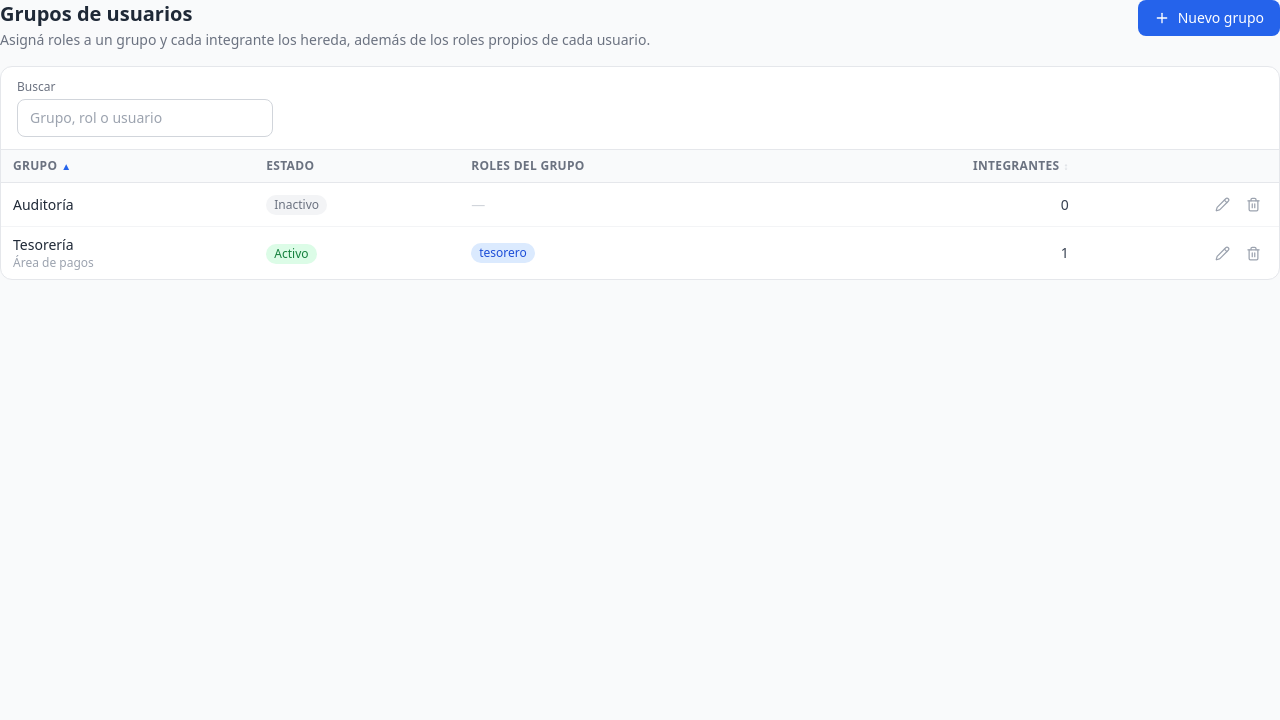
Test: GroupsPage › muestra el error del servidor dentro del modal
This screenshot has width=1280, height=720.
Click the button "Nuevo grupo" at coordinates (1209, 18), box [1138, 0, 1279, 36]
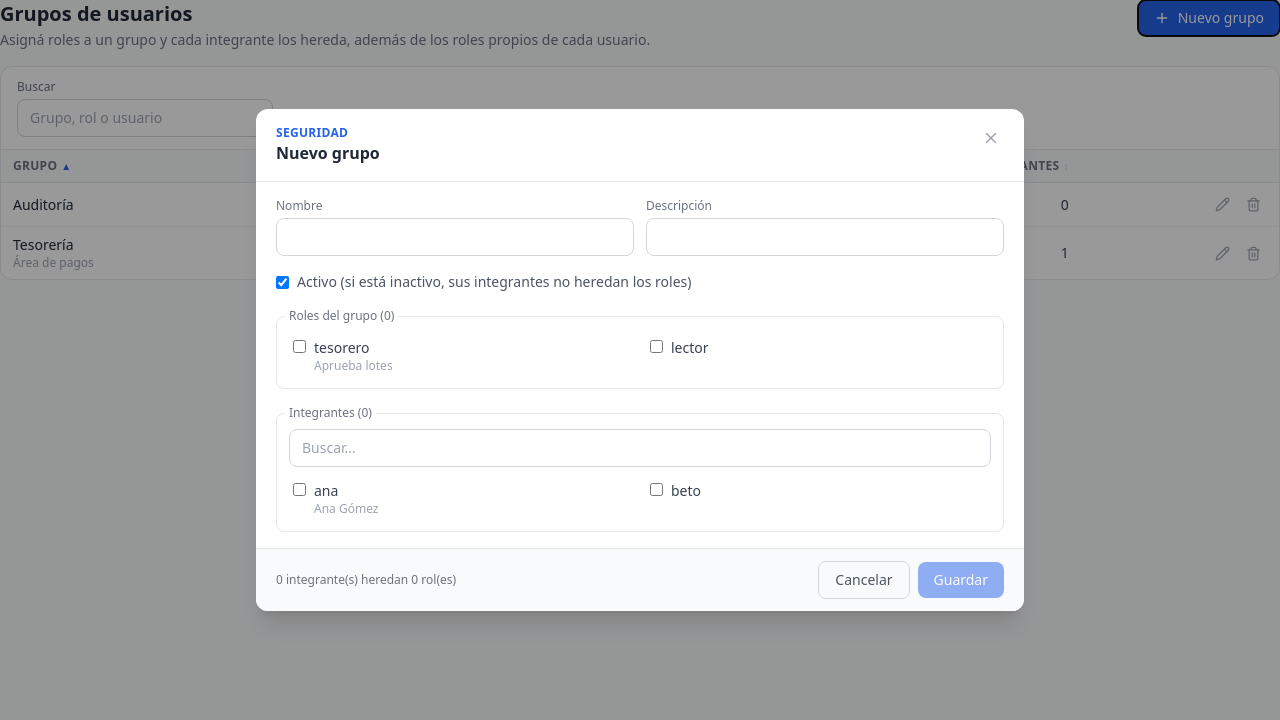
Type "Tesorería" into the field labelled "Nombre" at coordinates (455, 237), box [276, 218, 634, 256]
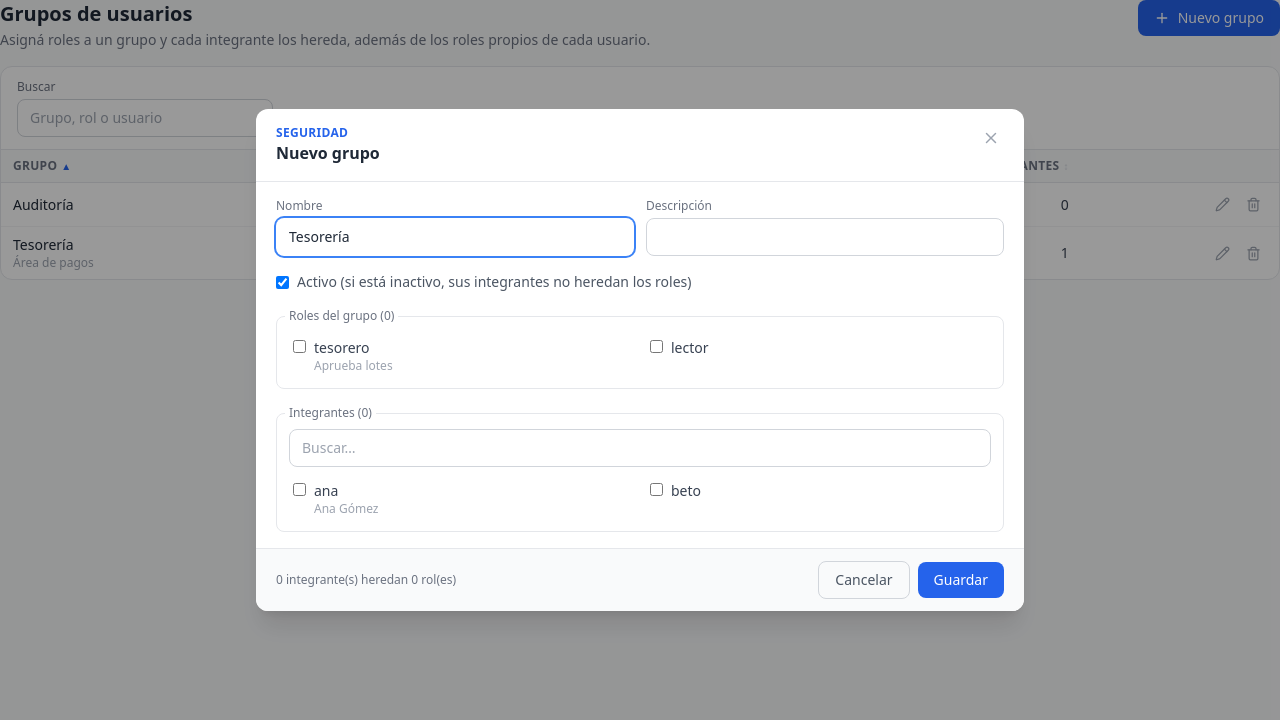
Click the button "Guardar" at coordinates (961, 580), box [918, 562, 1004, 598]
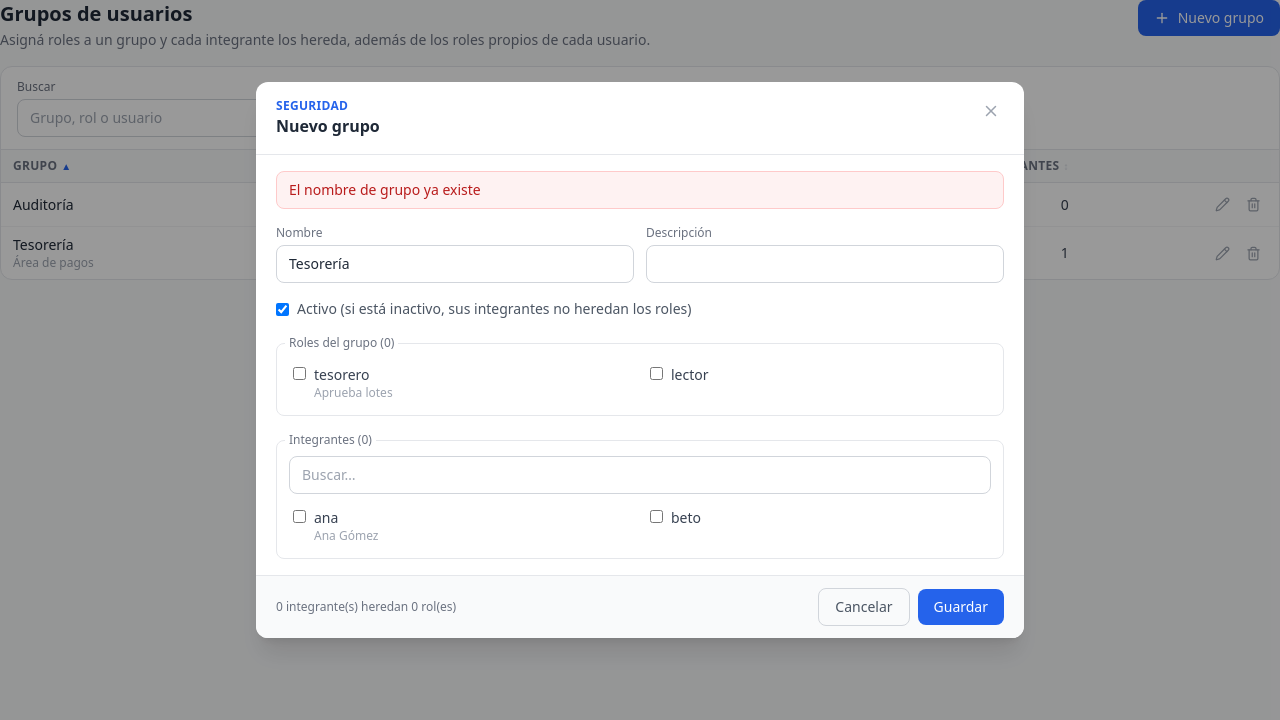
Expected: the text "El nombre de grupo ya existe" is shown, [276, 171, 1004, 209]
